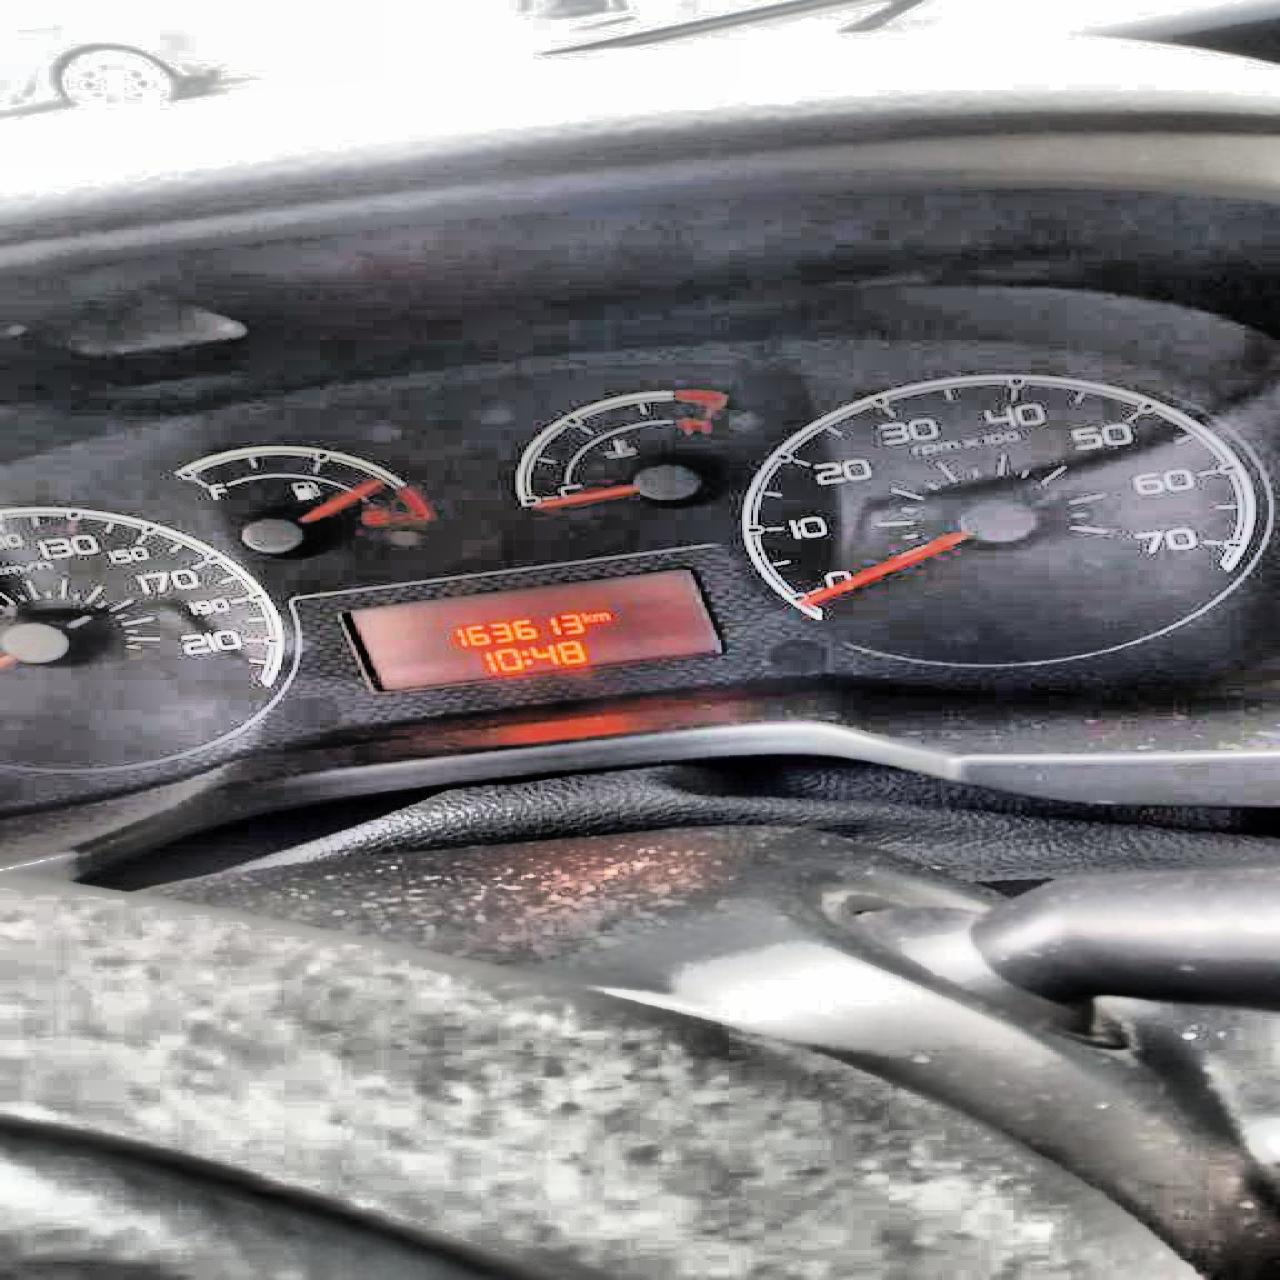0: (491, 647, 522, 672)
1: (481, 649, 496, 673), (544, 615, 560, 636), (451, 626, 467, 647)
3: (484, 621, 513, 642), (558, 613, 583, 633)
4: (526, 642, 558, 663)
6: (511, 619, 538, 640), (462, 624, 489, 645)
8: (553, 639, 587, 663)
odometer: (329, 564, 729, 699)
